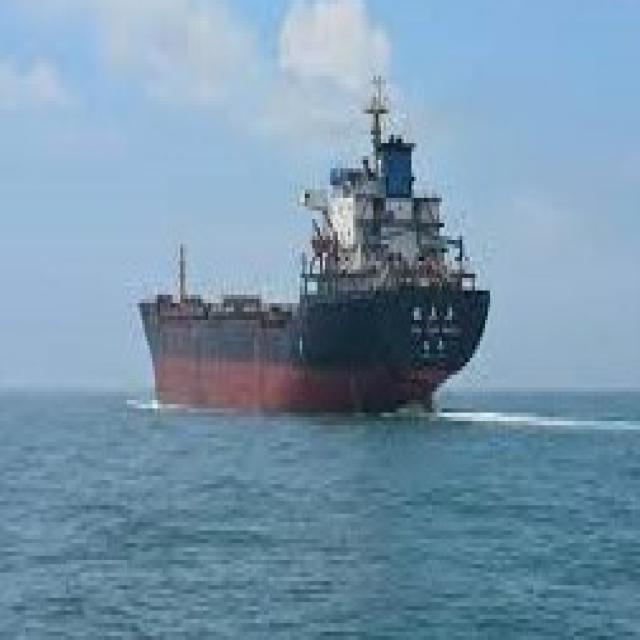cargoship: (130, 82, 493, 425)
